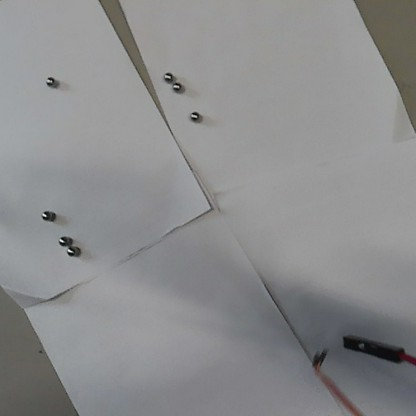ironball: (39, 208, 54, 223), (56, 233, 71, 248), (187, 109, 201, 123), (168, 80, 182, 93), (63, 242, 76, 256), (159, 70, 173, 81), (44, 74, 56, 86)
